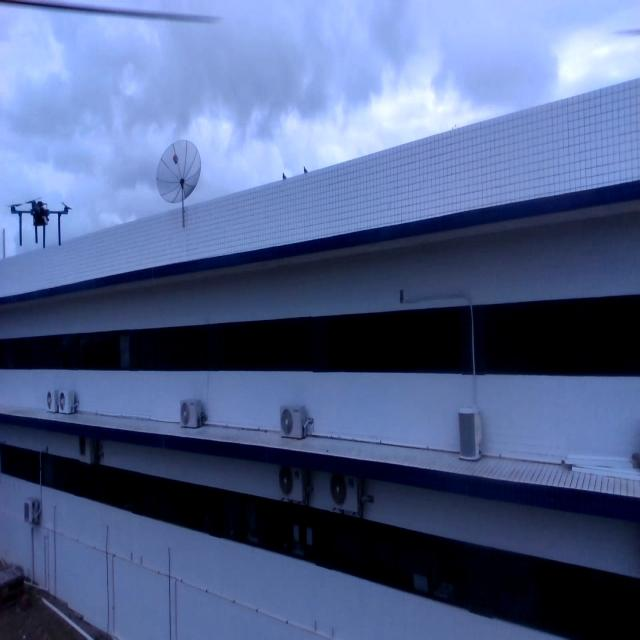-uav-: (2, 192, 78, 258)
